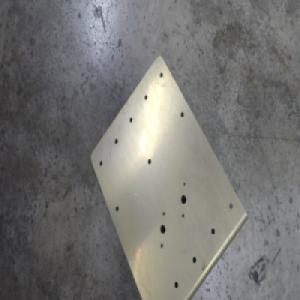MetalSheet: (90, 54, 250, 300)
